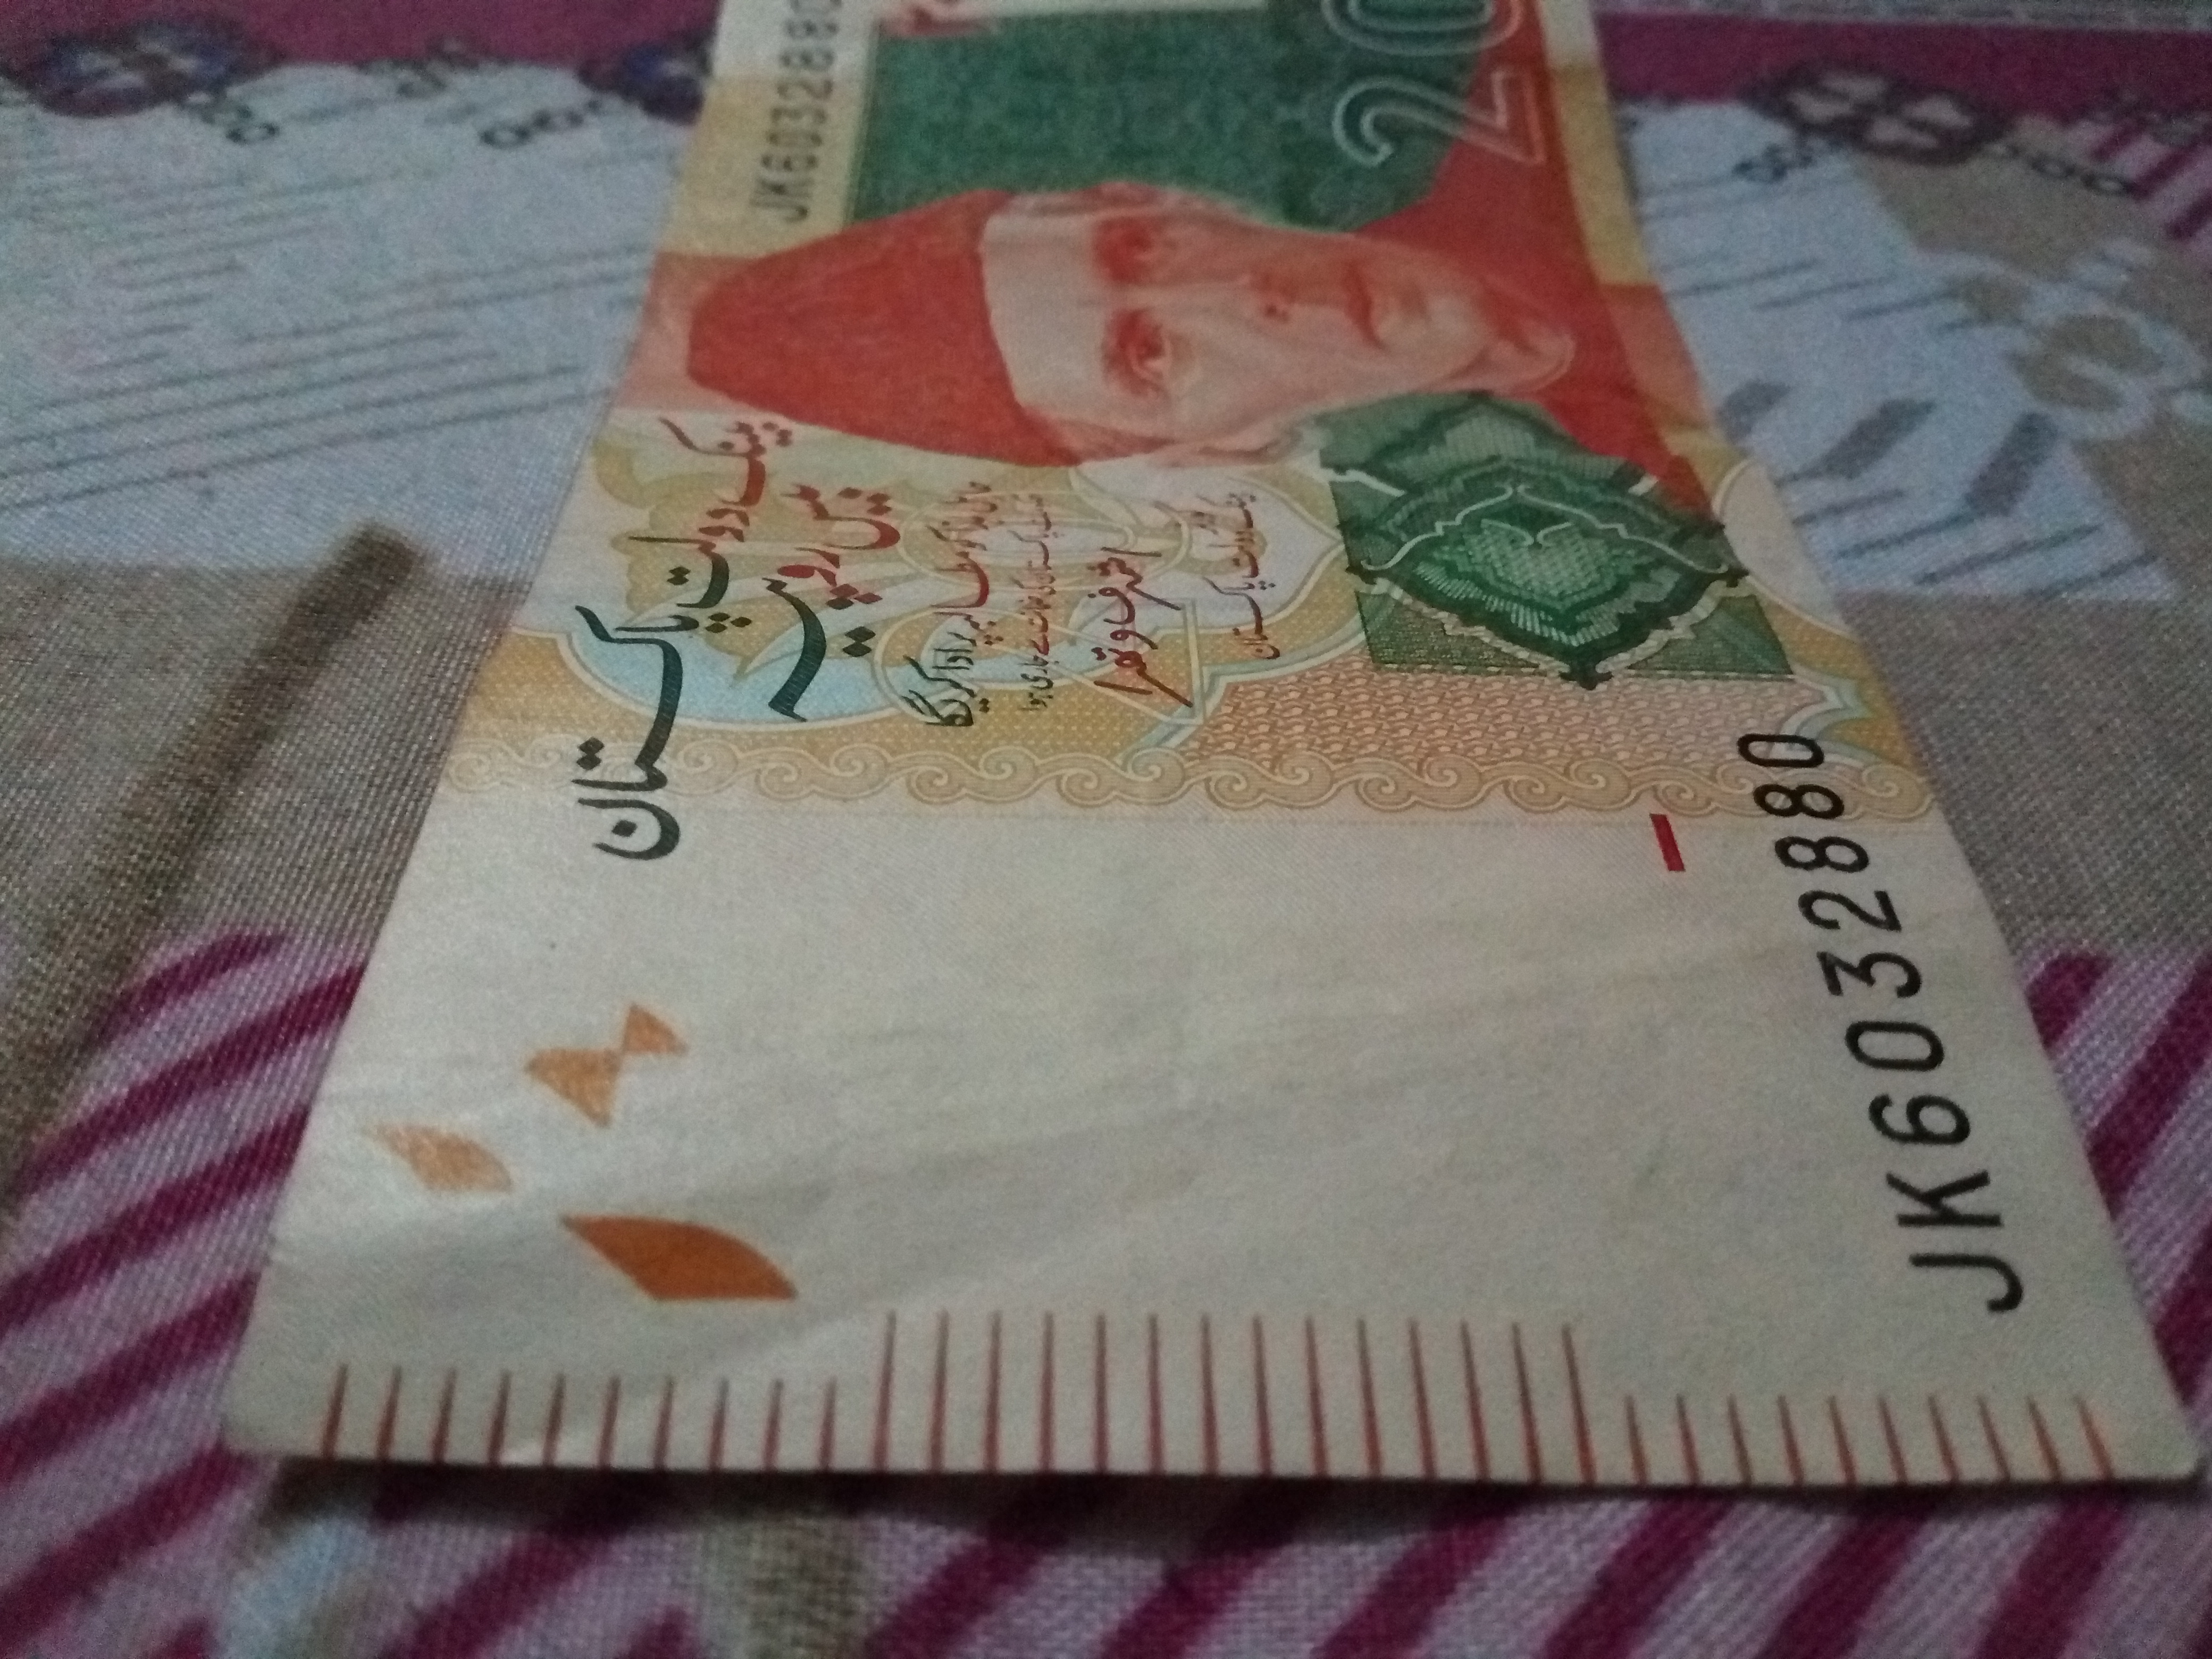20 rupee: (233, 21, 2212, 1645)
